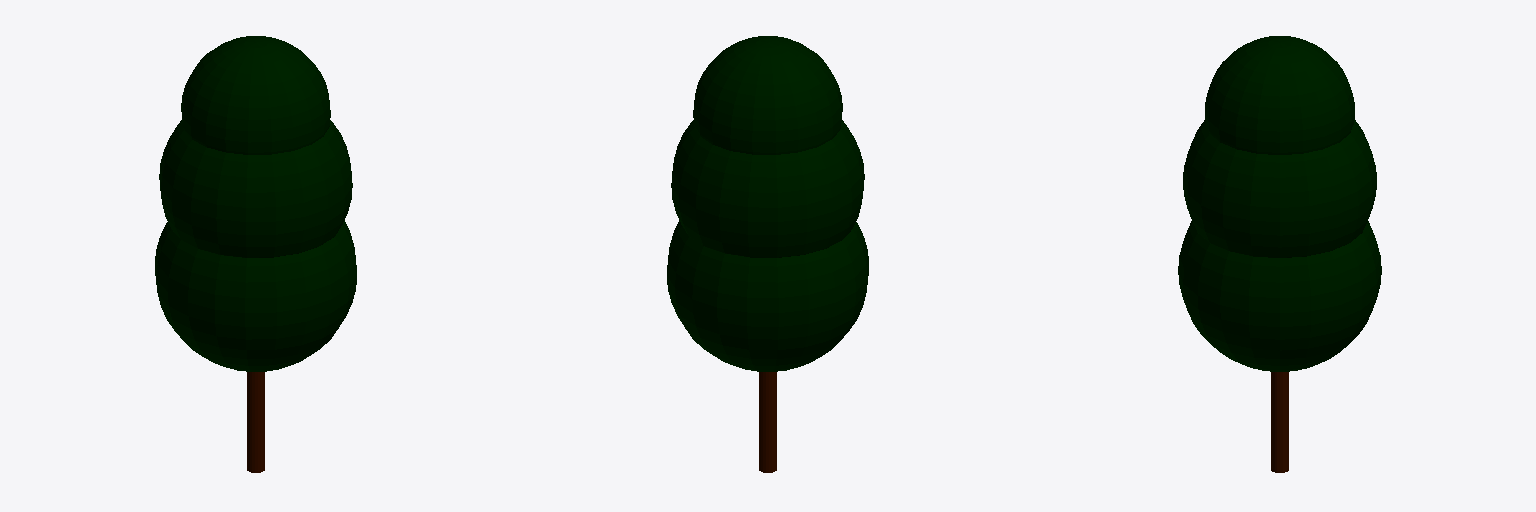
The model's file is Tree1.obj.
3 renders of one model, left to right at view 1: azimuth 30°, elevation 25°; view 2: azimuth 150°, elevation 25°; view 3: azimuth 270°, elevation 25°, orthographic.
Visible parts, largest first — view 1: pSphere2; view 2: pSphere2; view 3: pSphere2.
Boxes of the visible parts, box(x1,y1,x2,y2) form: pSphere2: box(155, 36, 356, 472); pSphere2: box(667, 36, 868, 472); pSphere2: box(1178, 36, 1381, 472).
Bounding box in the file's own units: 10.67 × 24.65 × 10.67.